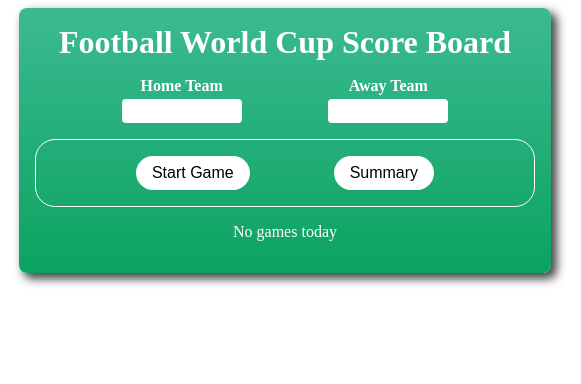
Scenario: test scoreboard › click in Start Game should create an item list
In the field with test id "home-name": (182, 111) [122,99,242,123], type "Spain"
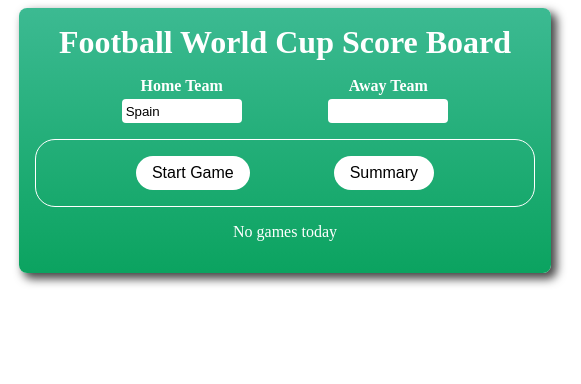
In the field with test id "away-name": (388, 111) [328,99,448,123], type "England"
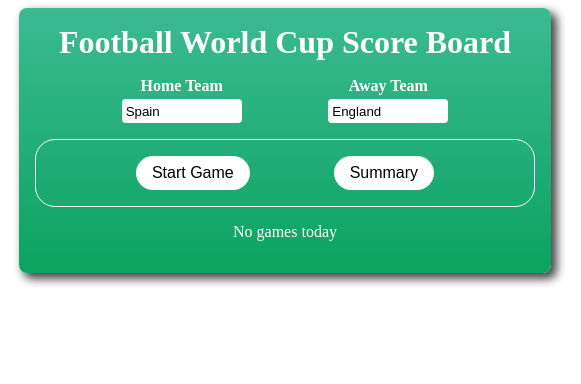
Click the button "Start Game": (193, 173) [136,156,250,190]
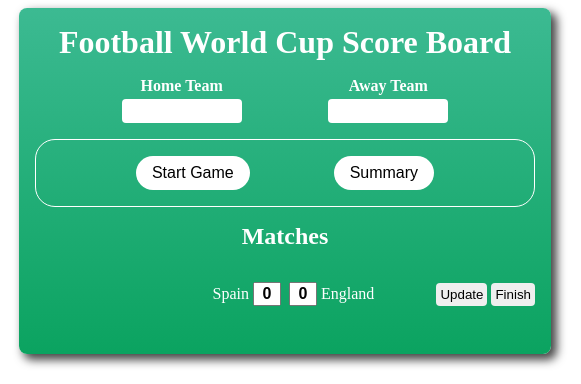
Result: the heading "Matches" is shown at [242,223,328,249]
Result: the text "No games today" is gone
Result: the number of list items is 1 at [212,282,535,306]
